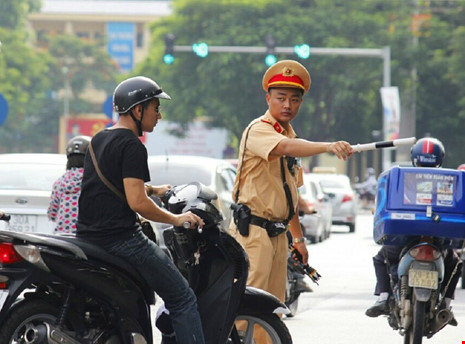police: (221, 57, 398, 338)
